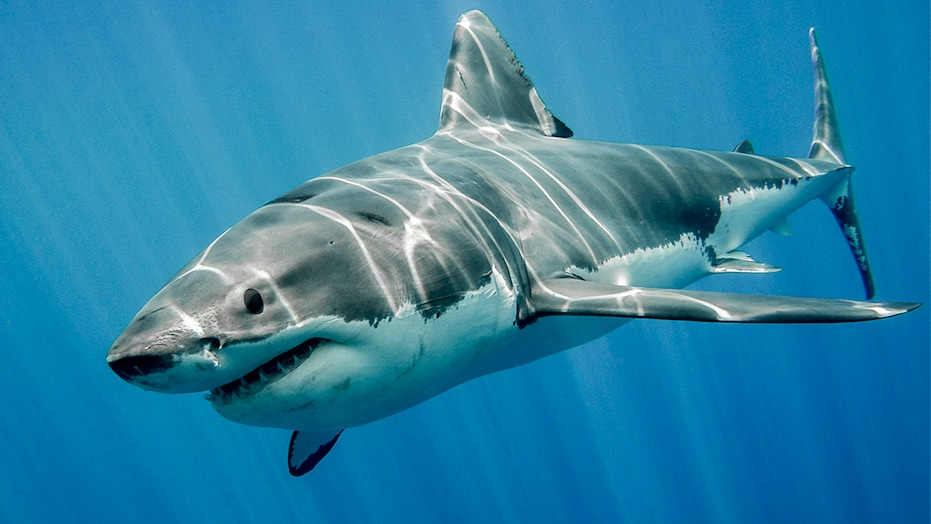shark: (108, 12, 913, 479)
